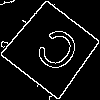C: (26, 23, 84, 83)
